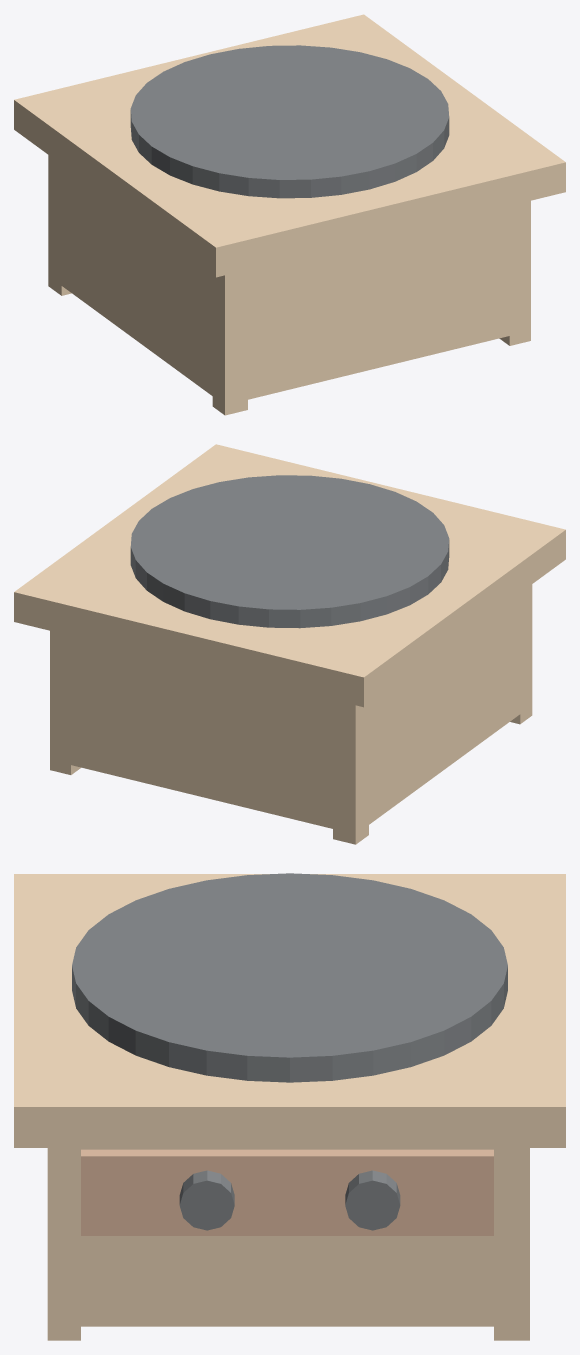
The model's file is kitchen.fbx.
3 views of the same model, one above another, from view 1: azimuth 30°, elevation 25°; view 2: azimuth 150°, elevation 25°; view 3: azimuth 270°, elevation 25° (orthographic). The views are drawn at different scales.
Parts seen in each view (by area): view 1: kitchen; view 2: kitchen; view 3: kitchen.
Part boxes in pixels (bbox=[...]): kitchen: bbox=[14, 14, 565, 415]; kitchen: bbox=[14, 444, 565, 844]; kitchen: bbox=[14, 873, 565, 1340].
Bounding box in the file's own units: 201 × 109 × 200.
